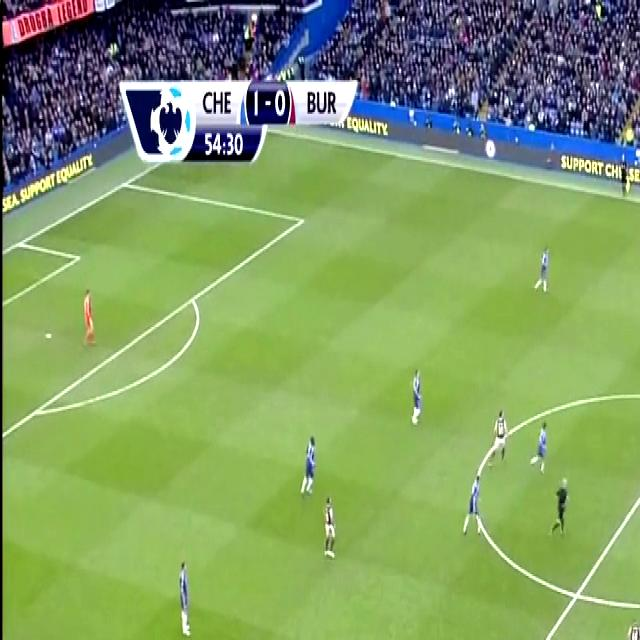goalkeeper: (77, 282, 99, 348)
referee: (550, 472, 574, 544), (618, 148, 632, 200)
soccer-player: (170, 554, 197, 640), (463, 465, 488, 540), (296, 430, 318, 503), (324, 489, 344, 565), (531, 417, 555, 477), (532, 239, 554, 302), (484, 403, 509, 458), (410, 362, 427, 429), (623, 613, 640, 640)
